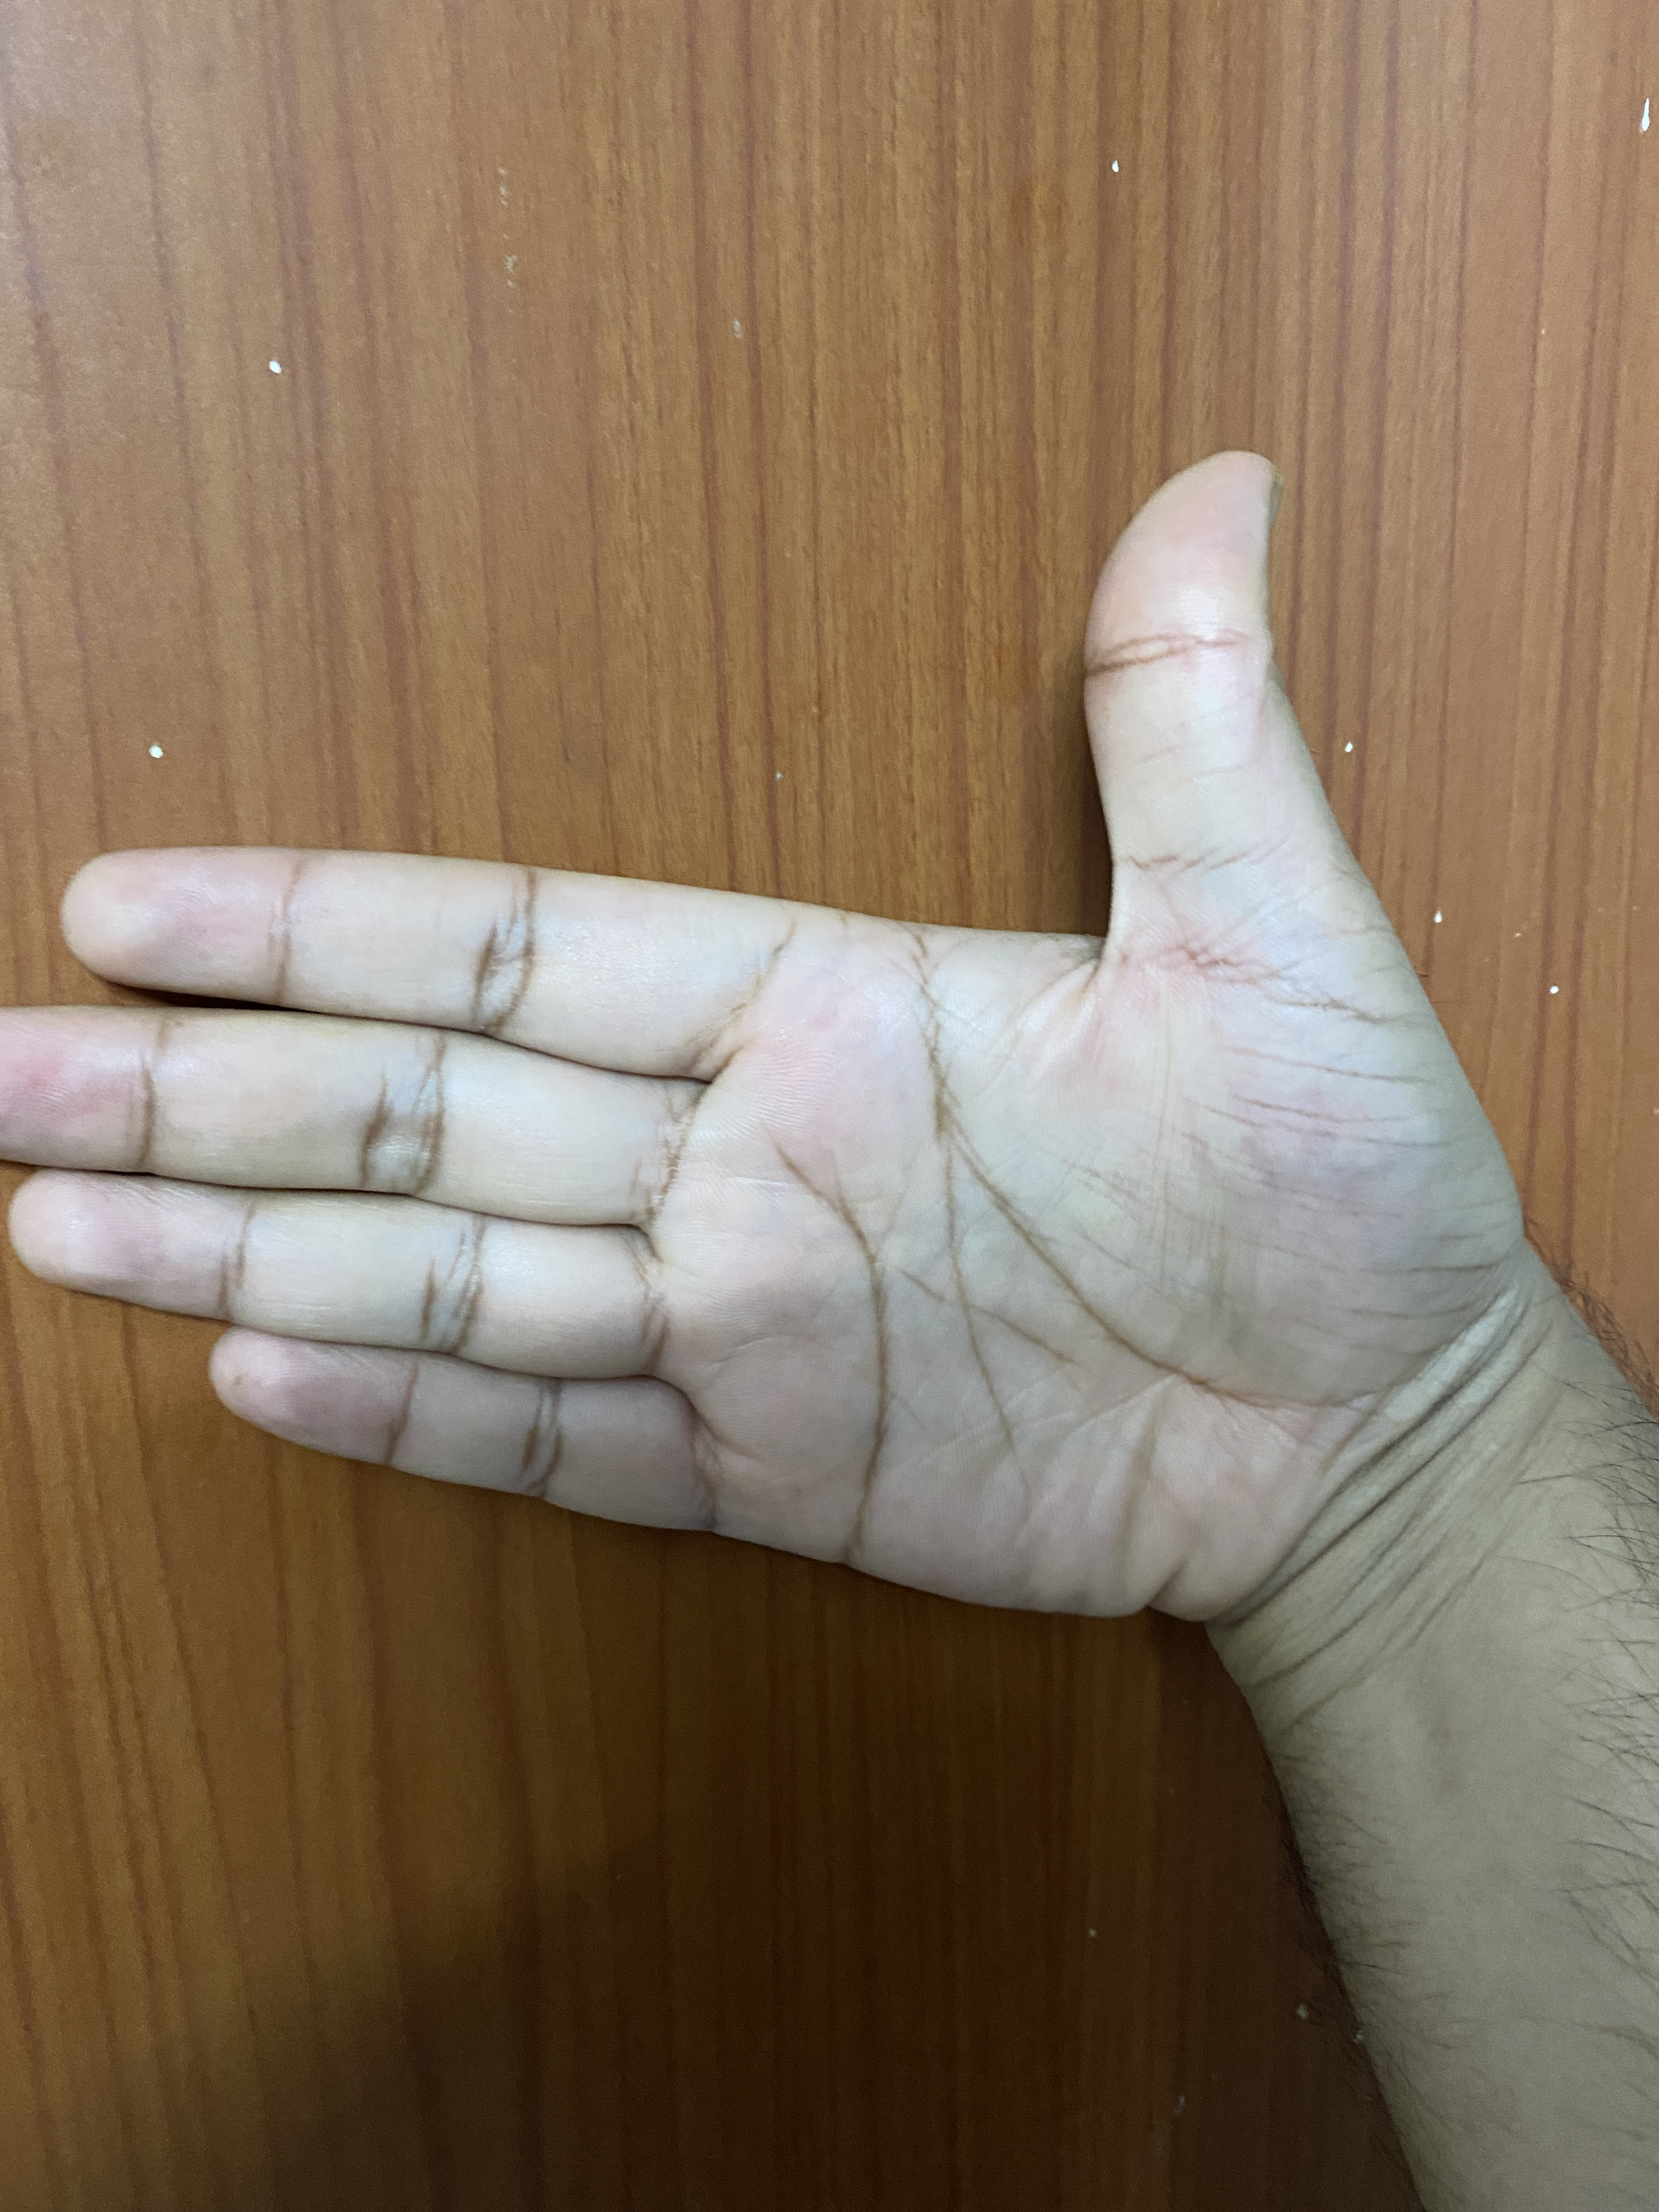up: (14, 326, 1659, 2118)
